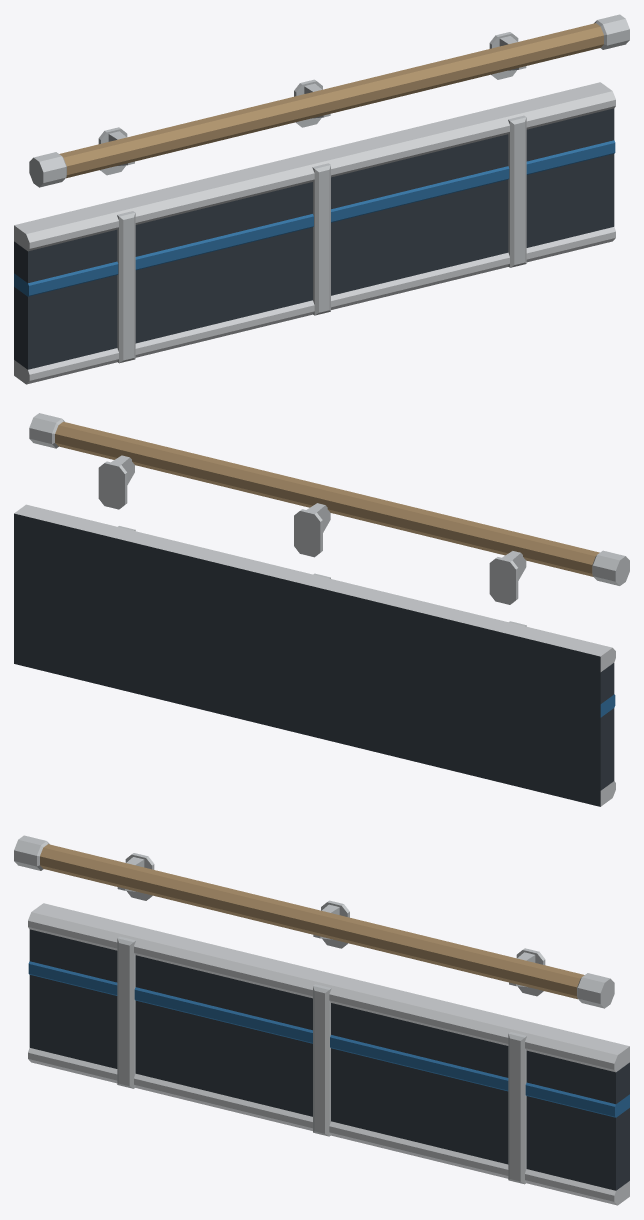
The model's file is corridor-handrail-run-cc6555.glb.
The picture shows the model from 3 angles, top to bottom: view 1: azimuth 30°, elevation 25°; view 2: azimuth 150°, elevation 25°; view 3: azimuth 330°, elevation 25°; orthographic projection.
Visible parts, largest first — view 1: handrail-run; view 2: handrail-run; view 3: handrail-run.
Boxes of the visible parts, x1,y1,x2,y2 form: handrail-run: (14, 14, 629, 384); handrail-run: (14, 413, 629, 806); handrail-run: (14, 835, 629, 1205).
Bounding box in the file's own units: 2 × 0.757 × 0.174.
